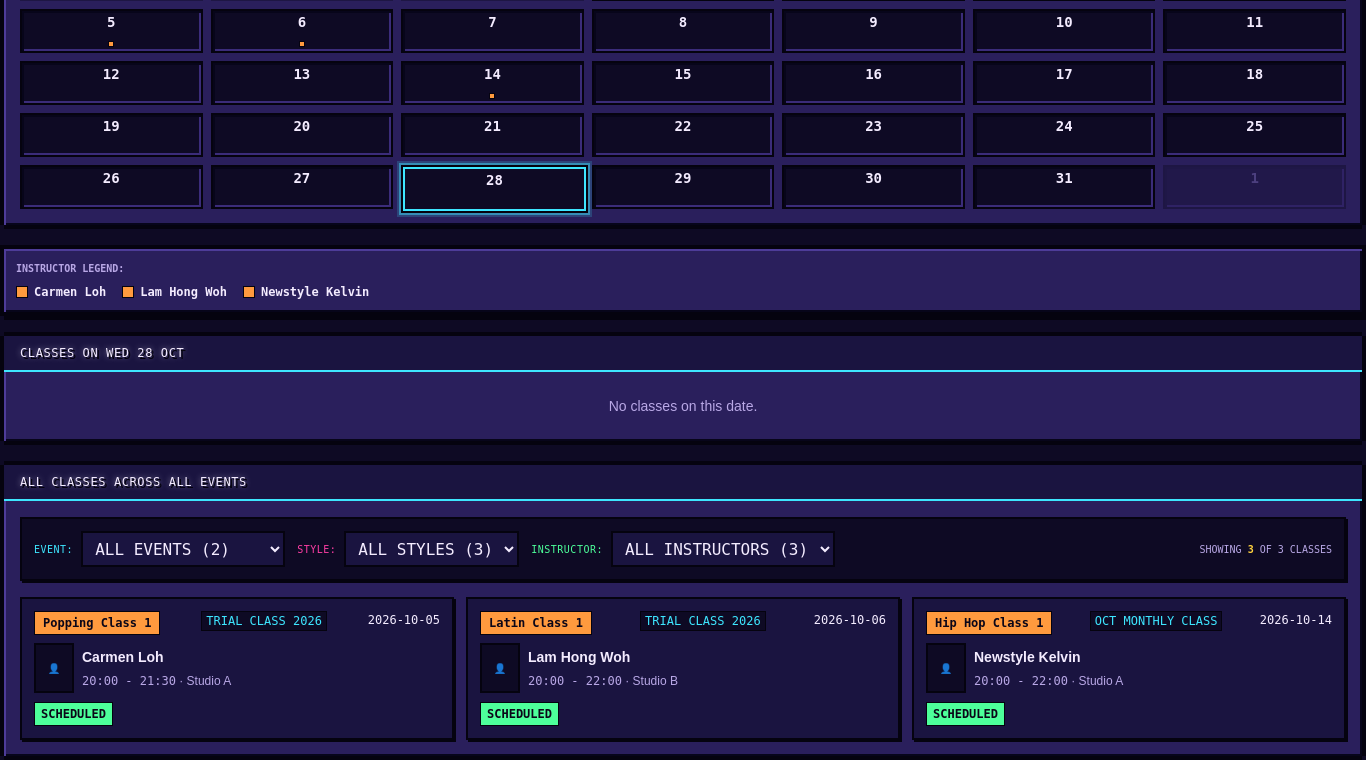
ClassesPage Filter Component › shows empty state when no classes match filters and allows reset
(page scrolled)
Check: the text "Popping Class 1" is shown, box [34,611,160,635]
// Filter by Popping and Lam Hong Woh (no match)
Select "Popping" in the dropdown named "Filter classes by dance style" at (432, 549), box [344,531,519,567]
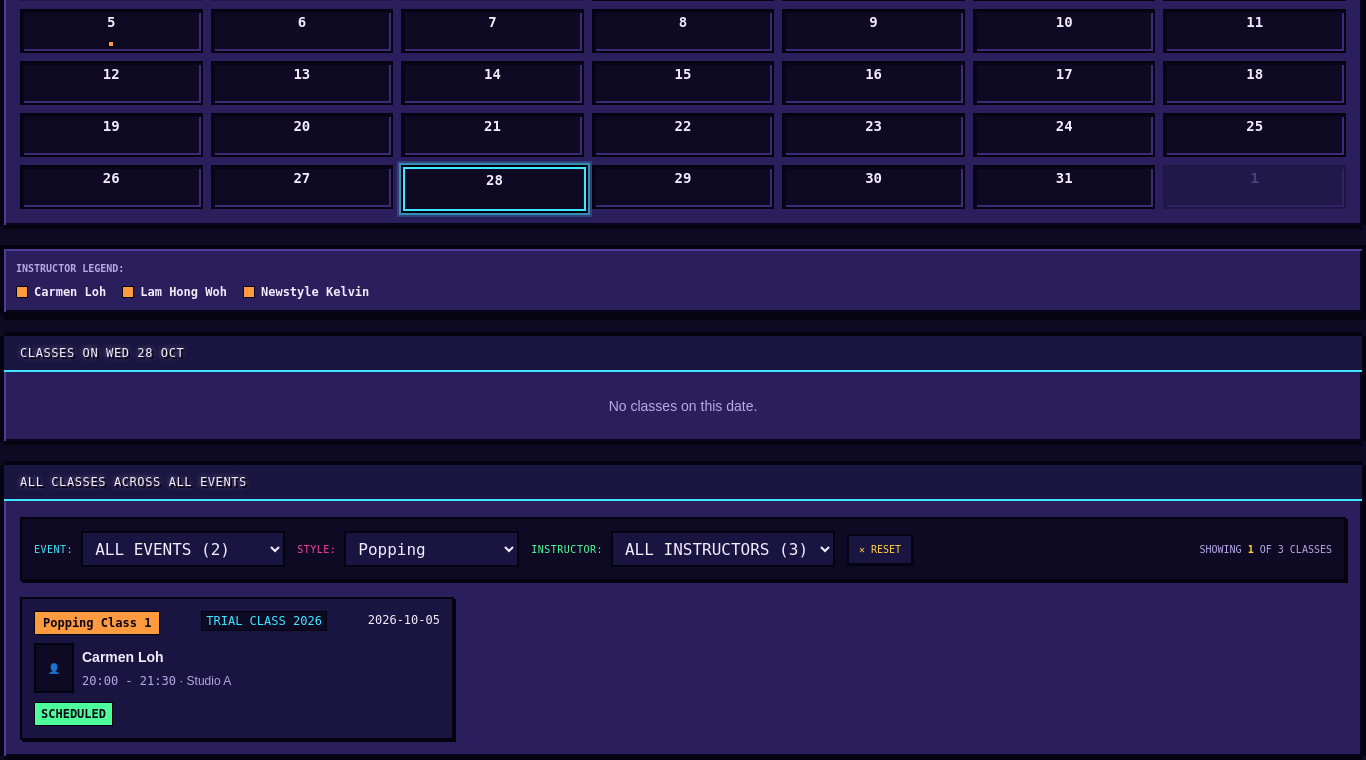
Select "Lam Hong Woh" in the dropdown named "Filter classes by instructor" at (723, 549), box [611,531,835,567]
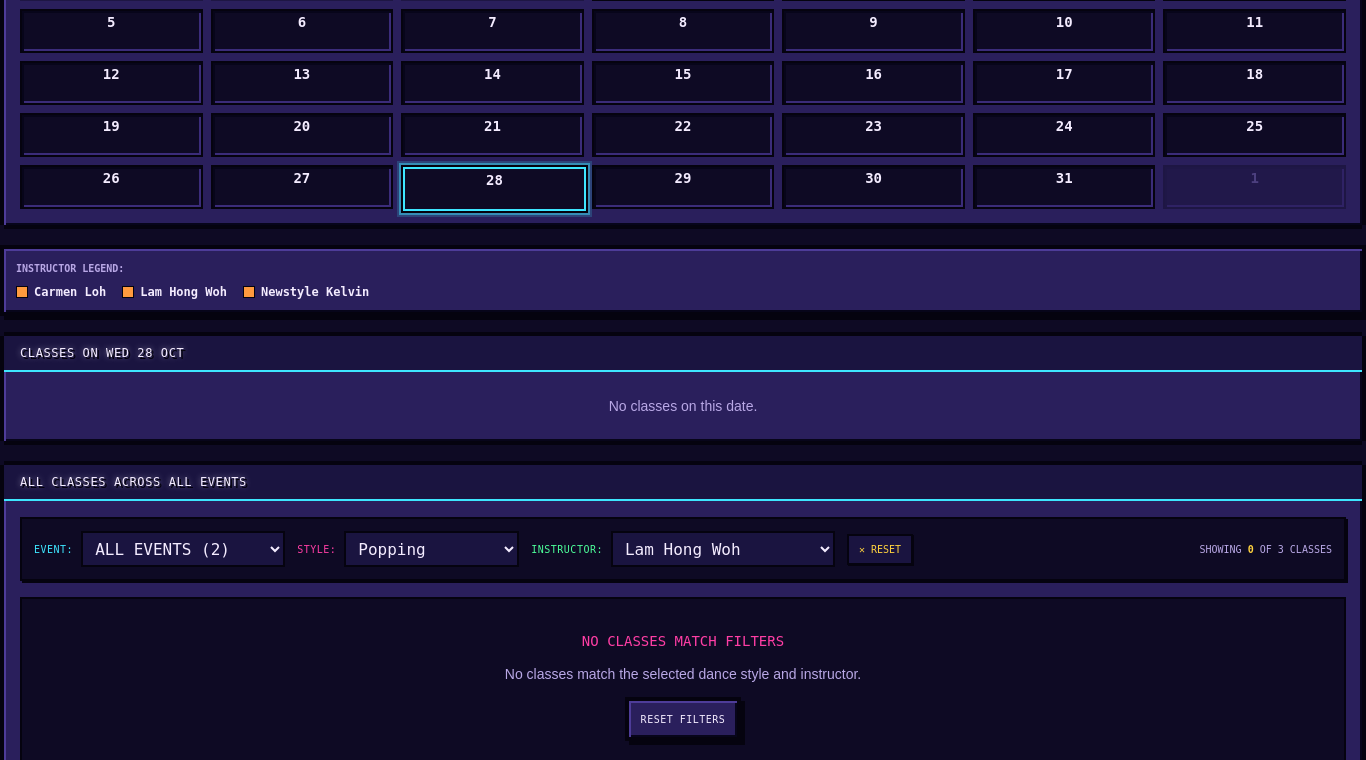
Check: the text "NO CLASSES MATCH FILTERS" is shown, box [582,633,784,649]
Check: the element with test id "classes-count-badge" reads "SHOWING 0 OF 3 CLASSES", box [1200,542,1332,556]
// Click Reset
Click the button "RESET FILTERS" at (683, 719), box [625,697,741,741]
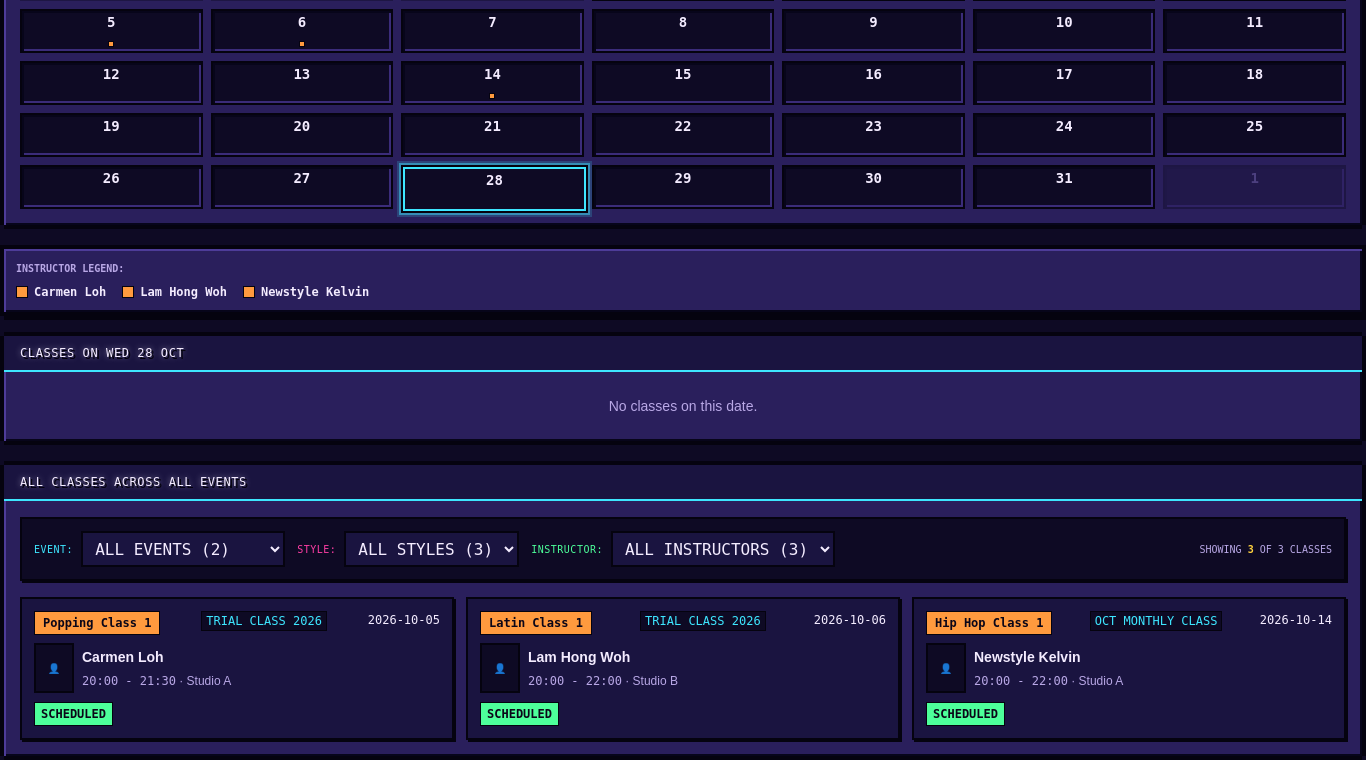
Check: the text "Popping Class 1" is shown, box [34,611,160,635]
Check: the text "Latin Class 1" is shown, box [480,611,592,635]
Check: the text "Hip Hop Class 1" is shown, box [926,611,1052,635]
